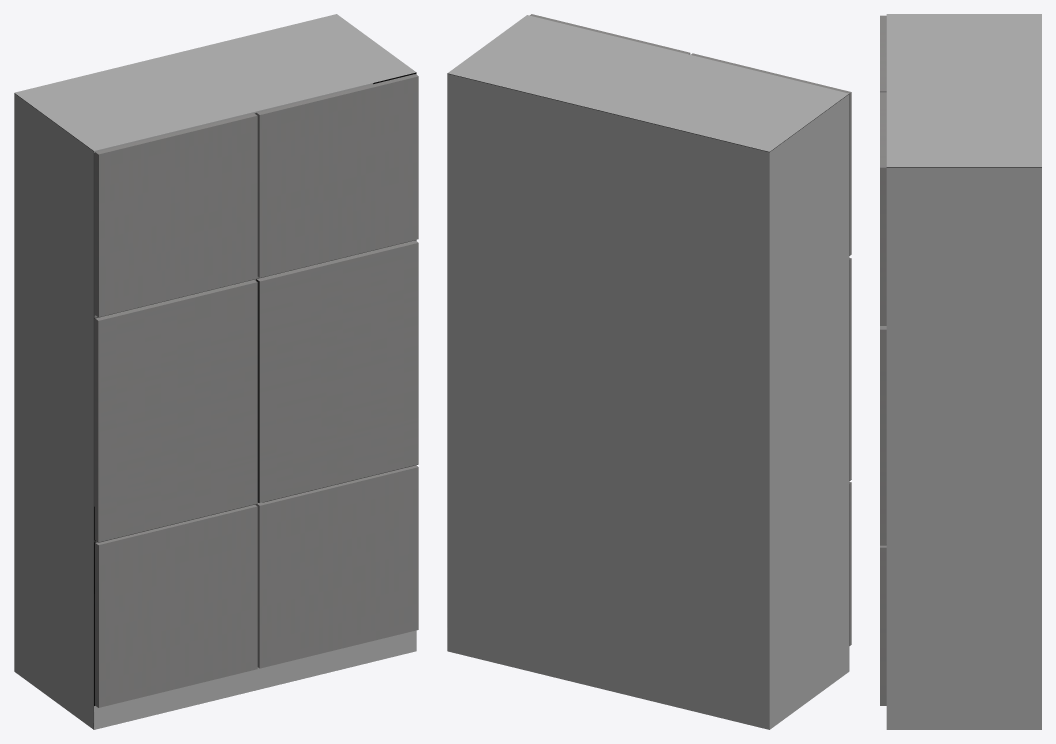
File: storage_140.dae
The picture shows the model from 3 angles, left to right: view 1: azimuth 30°, elevation 25°; view 2: azimuth 150°, elevation 25°; view 3: azimuth 270°, elevation 25°; orthographic projection. The views are drawn at different scales.
Parts seen in each view (by area): view 1: Skrin_140 v3; view 2: Skrin_140 v3; view 3: Skrin_140 v3.
Part boxes in pixels (<box>): Skrin_140 v3: <box>14,14,418,729</box>; Skrin_140 v3: <box>447,14,851,729</box>; Skrin_140 v3: <box>880,14,1041,729</box>.
Size of the model in its own units: 1.4 by 0.625 by 2.4.
1 material, 1 textured.
